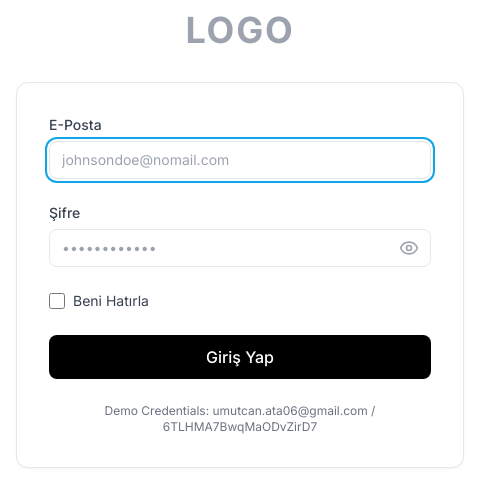
Test: LoginPage › Form Submission › should show loading state during login
The width and height of the screenshot is (481, 485).
Type "test@example.com" into the field labelled "E-Posta". click: [240, 160]
box: [49, 141, 431, 179]
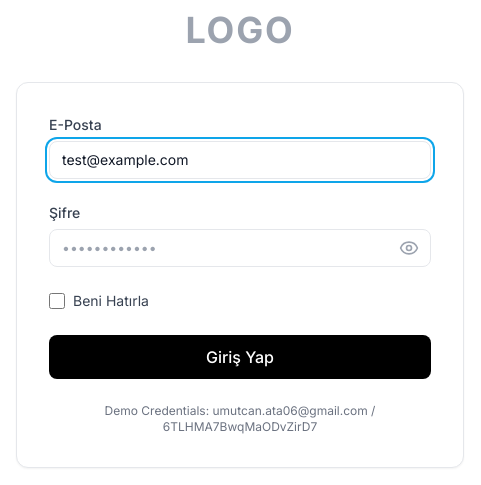
Type "password123" into the password field labelled "Şifre". click: [240, 248]
box: [49, 229, 431, 267]
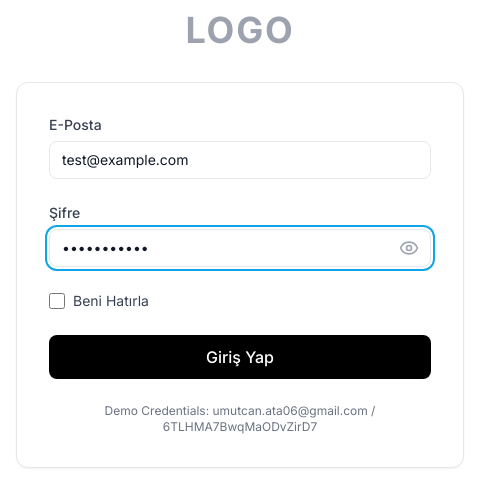
Click the button "Giriş Yap". click: [240, 357]
box: [49, 335, 431, 379]
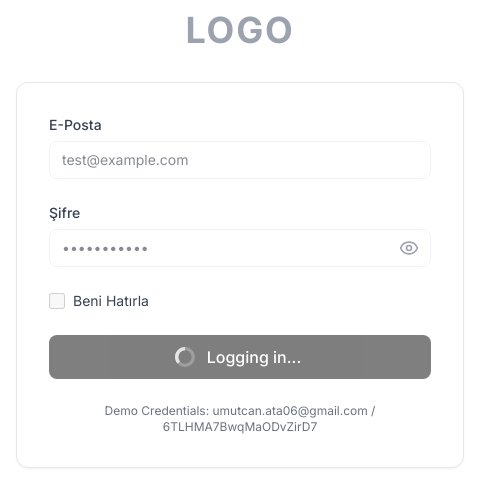
Check: the text "Logging in..." is shown, box [179, 345, 301, 369]
Check: the field labelled "E-Posta" is disabled, box [49, 141, 431, 179]
Check: the password field labelled "Şifre" is disabled, box [49, 229, 431, 267]
